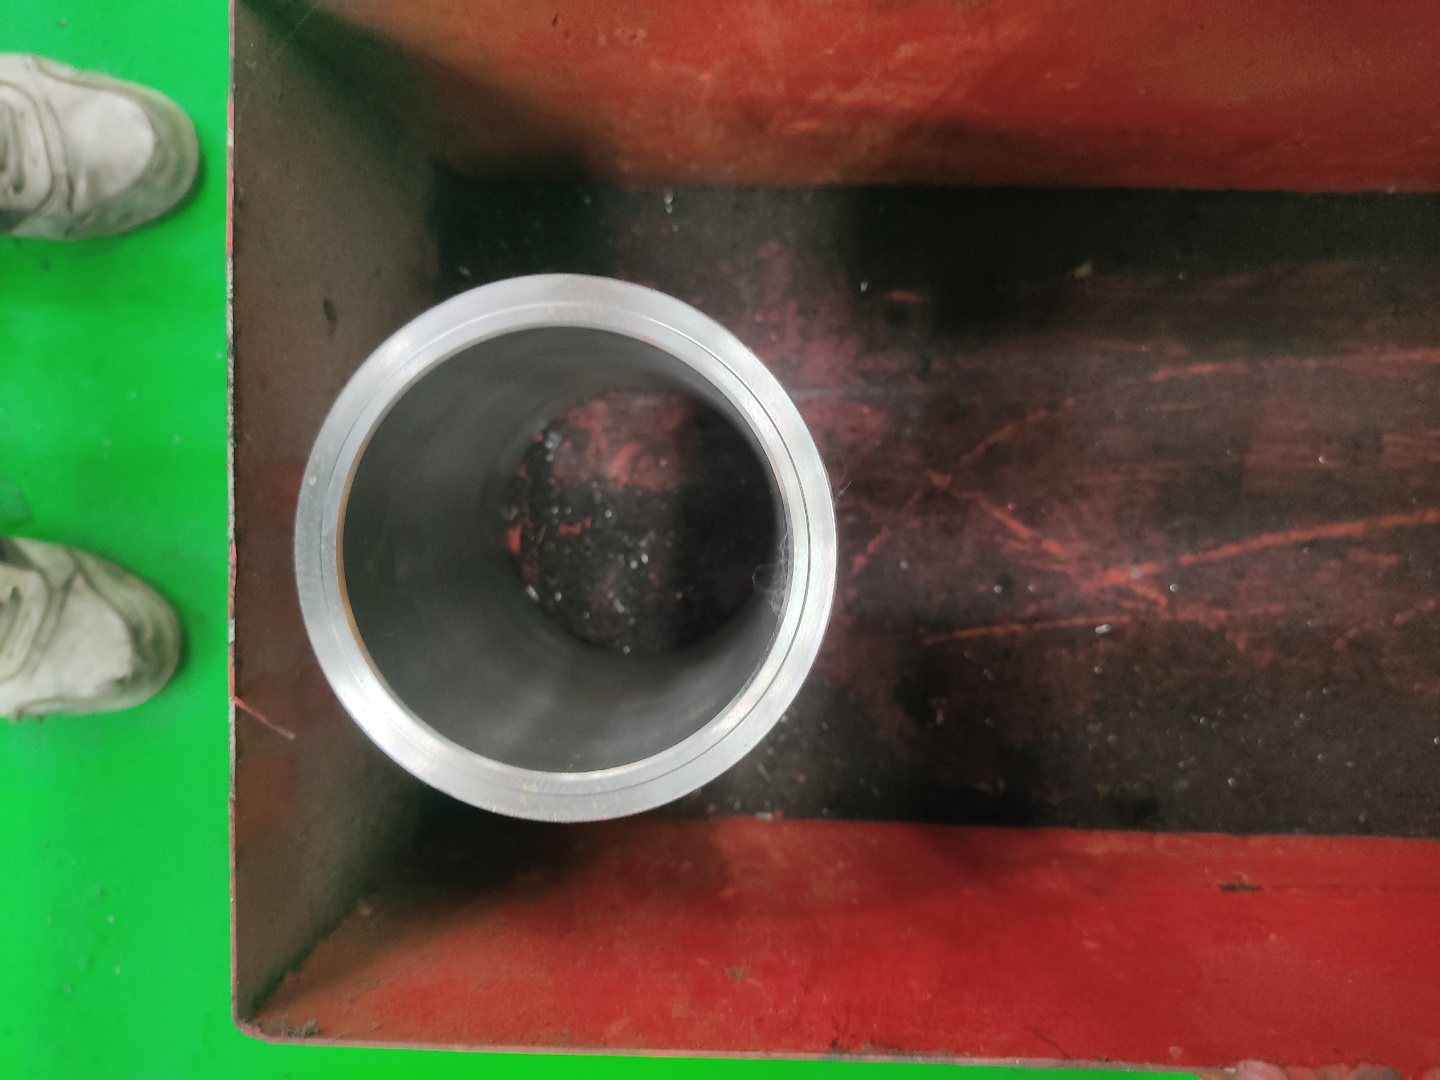cylinder: (289, 270, 842, 829)
